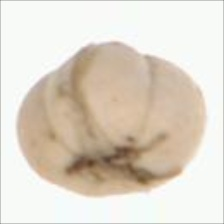L5: (44, 40, 156, 155), (55, 138, 189, 191)
L6: (15, 42, 209, 199)
